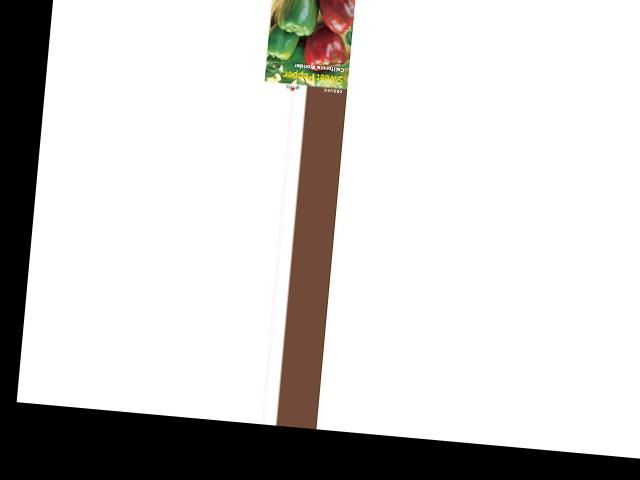bell_pepper: (264, 17, 297, 63)
